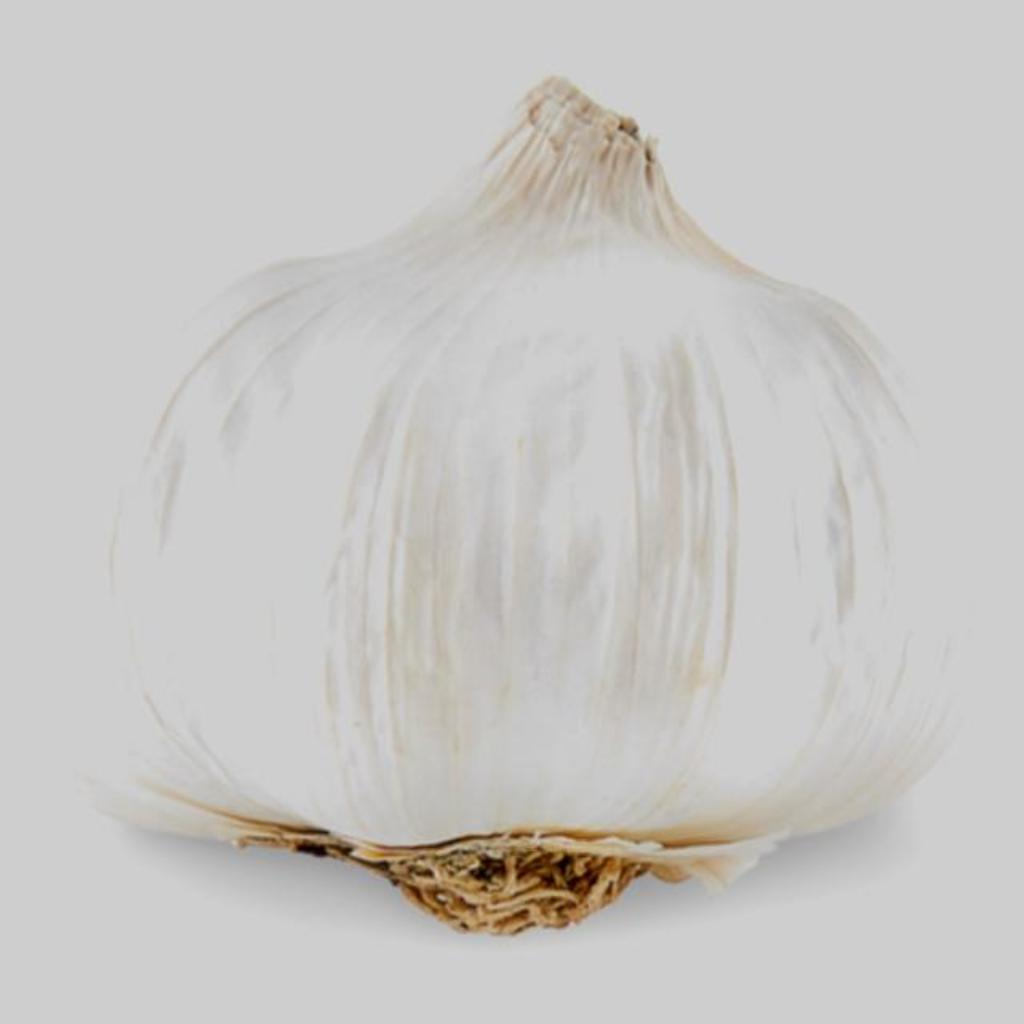garlic: (6, 80, 1004, 934)
